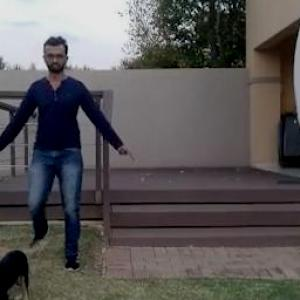land: (0, 39, 127, 265)
